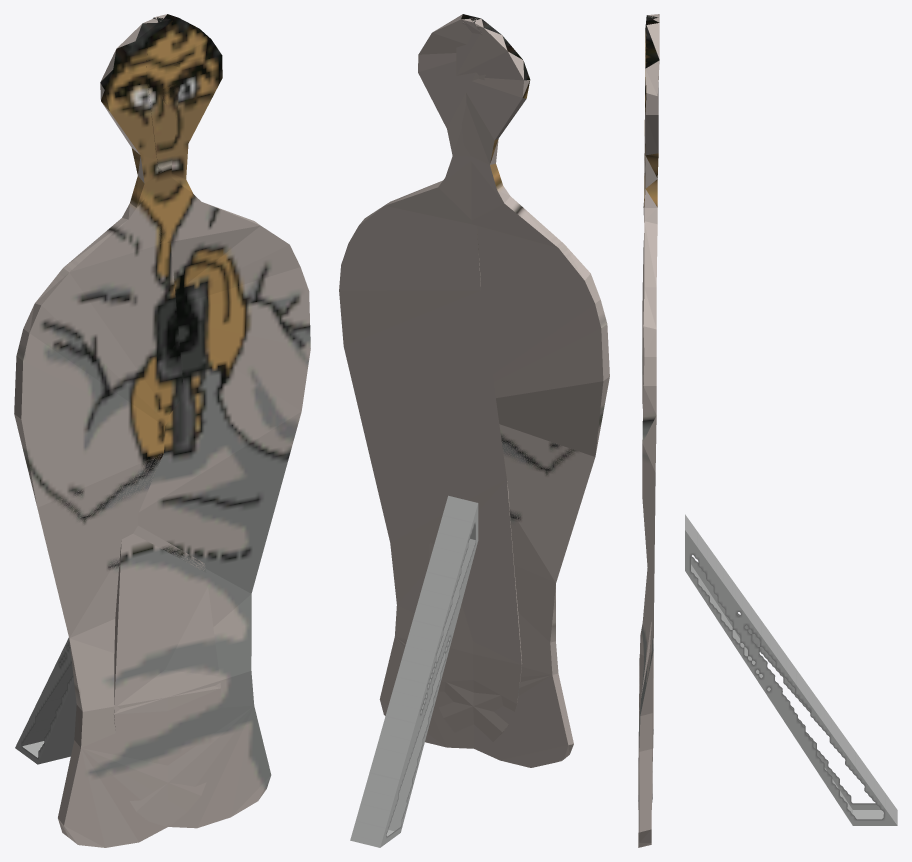
The model's file is Fakeguy2.glb.
3 views of the same model, side by side, from view 1: azimuth 30°, elevation 25°; view 2: azimuth 150°, elevation 25°; view 3: azimuth 270°, elevation 25° (orthographic). The views are drawn at different scales.
Parts seen in each view (by area): view 1: Fakeguy2; view 2: Fakeguy2; view 3: Fakeguy2.
Boxes of the visible parts, x1,y1,x2,y2 form: Fakeguy2: (14, 14, 310, 847); Fakeguy2: (339, 14, 609, 847); Fakeguy2: (638, 14, 897, 847).
Size of the model in its own units: 77.17 by 207 by 60.53.
1 material, 1 textured.
